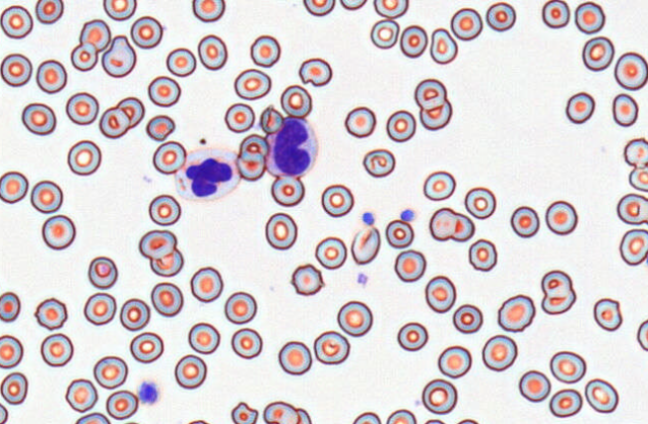GRAN: (166, 145, 245, 201)
MONO: (264, 115, 321, 178)
PLT: (138, 382, 158, 406), (398, 208, 416, 222), (361, 211, 375, 227)
RBC: (540, 269, 576, 314), (429, 207, 474, 242), (235, 133, 268, 180), (497, 294, 535, 332), (481, 334, 517, 371), (614, 51, 648, 90), (421, 378, 457, 414), (336, 300, 372, 336), (41, 214, 76, 250), (313, 330, 350, 364), (264, 212, 297, 250), (67, 139, 101, 175), (549, 350, 586, 383), (424, 275, 456, 313), (233, 68, 271, 100), (93, 355, 128, 389), (278, 340, 312, 375), (584, 378, 618, 413), (190, 266, 223, 302), (350, 225, 380, 264), (152, 140, 186, 174), (65, 91, 99, 125), (581, 36, 614, 71), (150, 281, 183, 316), (21, 102, 56, 135), (138, 229, 176, 259), (65, 378, 98, 412), (0, 5, 33, 39), (321, 183, 354, 217), (437, 345, 471, 378), (174, 354, 206, 389), (545, 200, 577, 235), (619, 228, 648, 266), (40, 333, 73, 366), (314, 236, 347, 269), (83, 292, 116, 325), (34, 297, 67, 330), (30, 180, 63, 213), (290, 263, 324, 295), (280, 84, 312, 118), (129, 331, 163, 363), (35, 59, 67, 93), (197, 34, 227, 70), (518, 369, 550, 402), (394, 249, 426, 282), (147, 75, 180, 107), (224, 291, 256, 324), (130, 15, 162, 48), (0, 53, 32, 86), (464, 186, 496, 219), (450, 7, 482, 40), (270, 175, 304, 206), (119, 297, 150, 331), (414, 78, 446, 110), (79, 19, 111, 51), (188, 322, 220, 354), (230, 327, 262, 359), (616, 193, 648, 225), (148, 194, 181, 225), (422, 170, 455, 201), (105, 389, 138, 420), (574, 1, 605, 34), (87, 255, 117, 289), (98, 106, 129, 138), (344, 106, 376, 137), (386, 109, 416, 142), (250, 34, 280, 67), (565, 91, 595, 124), (149, 248, 183, 277), (224, 102, 255, 133), (419, 100, 451, 130), (362, 148, 395, 177), (468, 238, 497, 271), (549, 388, 582, 417), (399, 24, 427, 58), (452, 303, 483, 333), (397, 321, 428, 351), (485, 1, 516, 31), (116, 96, 145, 128), (510, 205, 539, 237), (0, 170, 28, 203), (0, 371, 28, 404), (166, 47, 196, 77), (370, 18, 399, 49), (612, 93, 638, 126), (385, 219, 414, 248), (70, 41, 98, 71), (541, 0, 570, 28), (0, 334, 23, 368), (623, 137, 648, 167), (192, 0, 225, 22), (259, 104, 283, 133), (34, 0, 63, 24), (373, 0, 408, 19), (103, 0, 136, 20), (0, 291, 20, 322), (628, 165, 647, 192), (303, 0, 335, 16), (385, 408, 416, 423), (74, 412, 110, 424), (636, 319, 648, 351), (351, 411, 381, 423), (339, 0, 367, 10), (295, 407, 312, 423), (0, 402, 8, 424), (423, 418, 447, 424), (455, 418, 479, 424), (185, 419, 212, 424), (118, 421, 146, 424)
Schistocyte: (102, 35, 136, 79), (430, 27, 460, 64), (592, 298, 624, 332), (298, 58, 332, 87), (262, 401, 299, 424), (146, 114, 177, 141), (231, 402, 258, 424)
